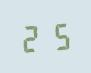five: (45, 20, 70, 51)
two: (19, 21, 44, 53)
